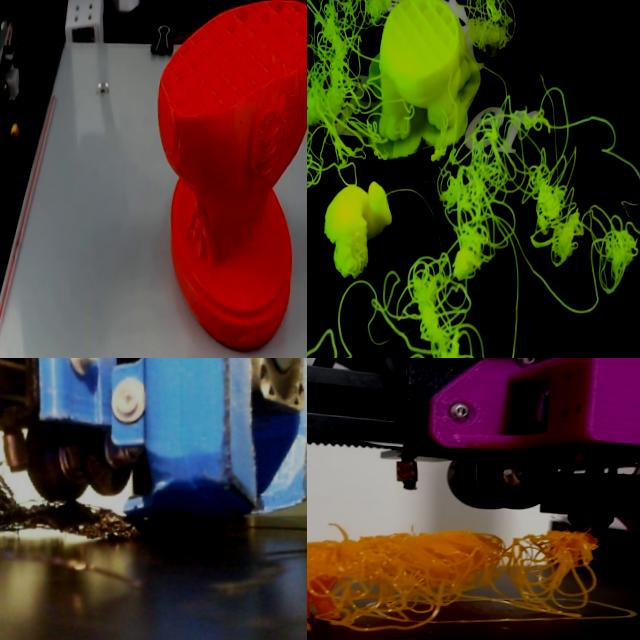spaghetti: (307, 0, 640, 358), (307, 508, 633, 640), (0, 440, 226, 579)
